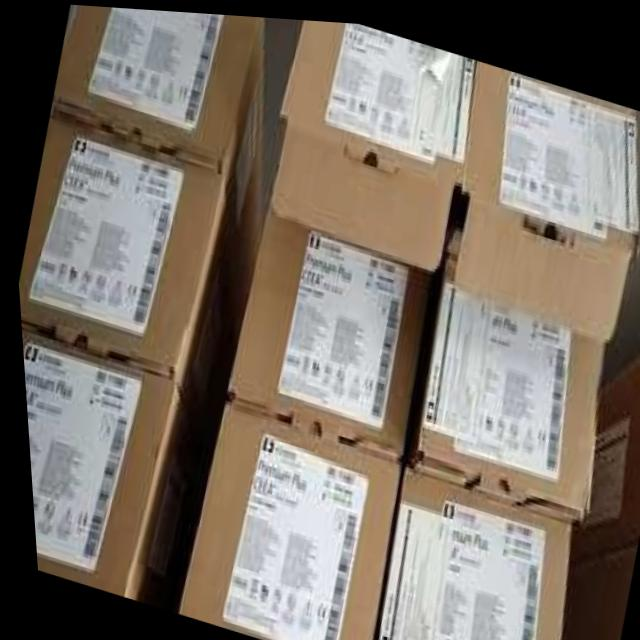box: (15, 117, 241, 491), (48, 4, 264, 289), (406, 222, 601, 515), (170, 397, 396, 640), (219, 203, 429, 456), (448, 53, 637, 332), (267, 16, 473, 266), (17, 327, 195, 612), (368, 461, 566, 640)
